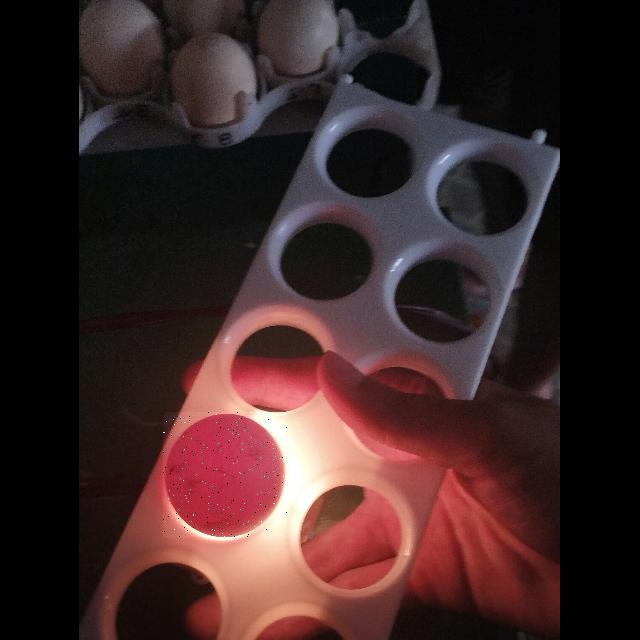Infertile: (163, 412, 287, 538)
